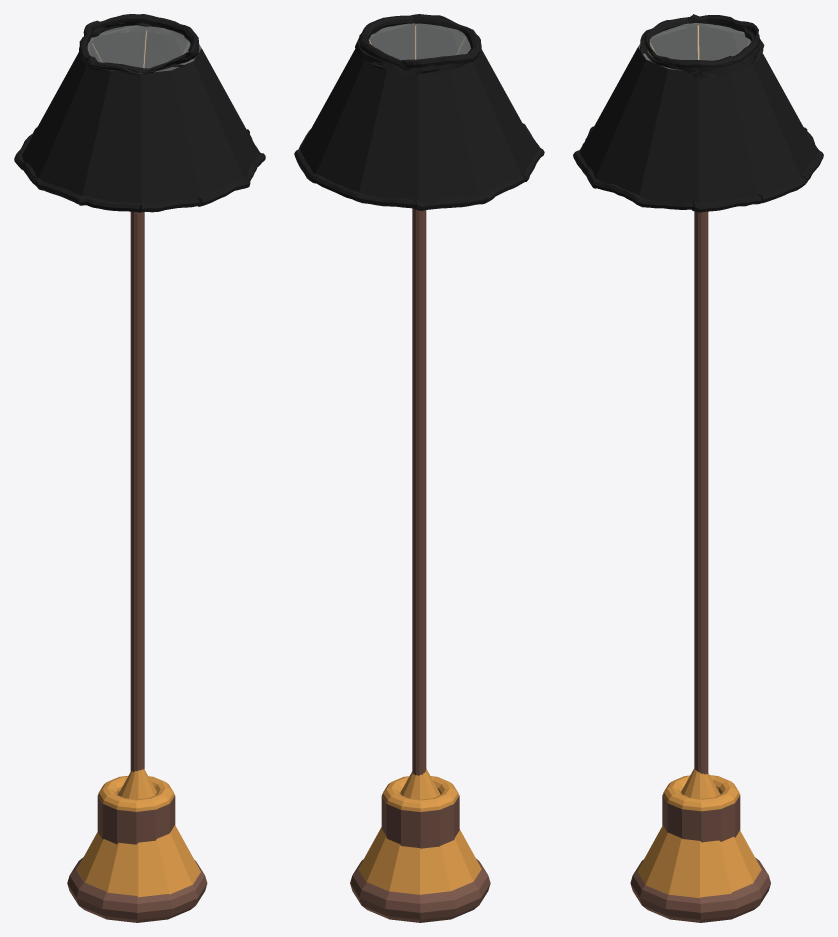
Rendered from lamp.obj.
3 views of the same model, side by side, from view 1: azimuth 30°, elevation 25°; view 2: azimuth 150°, elevation 25°; view 3: azimuth 270°, elevation 25° (orthographic).
Parts seen in each view (by area): view 1: group663315449, group2146598150, group98939259, group295391733, group802999880, group2143784288, group2031585872, group439359913, group322761414, group158485985, group461903529; view 2: group663315449, group2146598150, group98939259, group295391733, group802999880, group2143784288, group759175053, group1783123766, group793641771, group322761414, group2031585872, group326329088; view 3: group663315449, group2146598150, group98939259, group295391733, group802999880, group2143784288, group2031585872, group322761414, group314949552, group793641771, group1783123766.
Boxes of the visible parts, x1=… form: group663315449: x1=22, y1=25, x2=259, y2=203; group2146598150: x1=130, y1=211, x2=144, y2=771; group98939259: x1=77, y1=769, x2=200, y2=897; group295391733: x1=67, y1=857, x2=207, y2=922; group802999880: x1=97, y1=791, x2=175, y2=844; group2143784288: x1=98, y1=776, x2=174, y2=811; group2031585872: x1=79, y1=23, x2=199, y2=75; group439359913: x1=79, y1=196, x2=140, y2=212; group322761414: x1=158, y1=18, x2=198, y2=57; group158485985: x1=138, y1=198, x2=199, y2=212; group461903529: x1=196, y1=179, x2=250, y2=206; group663315449: x1=300, y1=23, x2=536, y2=201; group2146598150: x1=412, y1=208, x2=426, y2=775; group98939259: x1=358, y1=769, x2=481, y2=894; group295391733: x1=350, y1=858, x2=490, y2=922; group802999880: x1=381, y1=795, x2=459, y2=848; group2143784288: x1=382, y1=776, x2=458, y2=811; group759175053: x1=414, y1=194, x2=484, y2=210; group1783123766: x1=414, y1=15, x2=479, y2=51; group793641771: x1=401, y1=48, x2=478, y2=67; group322761414: x1=359, y1=14, x2=420, y2=42; group2031585872: x1=377, y1=14, x2=481, y2=75; group326329088: x1=356, y1=192, x2=419, y2=208; group663315449: x1=580, y1=23, x2=816, y2=204; group2146598150: x1=694, y1=211, x2=708, y2=774; group98939259: x1=637, y1=768, x2=761, y2=898; group295391733: x1=630, y1=857, x2=770, y2=922; group802999880: x1=662, y1=791, x2=740, y2=842; group2143784288: x1=663, y1=775, x2=739, y2=811; group2031585872: x1=641, y1=17, x2=764, y2=77; group322761414: x1=652, y1=51, x2=734, y2=68; group314949552: x1=692, y1=196, x2=761, y2=212; group793641771: x1=693, y1=14, x2=758, y2=36; group1783123766: x1=645, y1=15, x2=694, y2=56.
Size of the model in its own units: 1.77 by 6.85 by 1.8.
